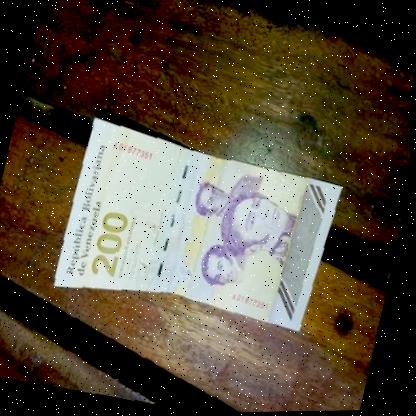two_hundred-front-vef: (52, 115, 350, 339)
